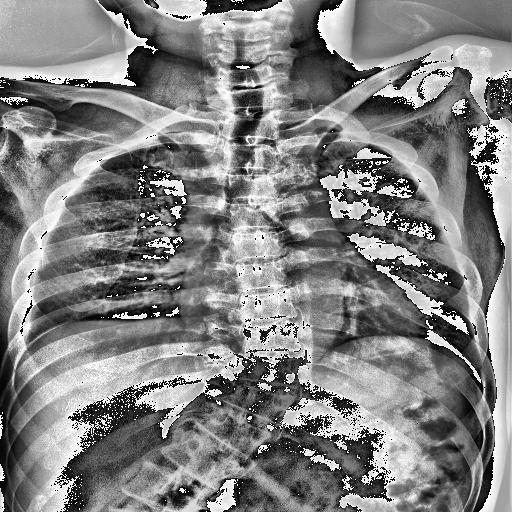3- Cardiomegaly: (178, 250, 432, 340), (176, 280, 432, 349)
9- Other lesion: (152, 206, 302, 494), (174, 267, 300, 474), (140, 360, 308, 492)
